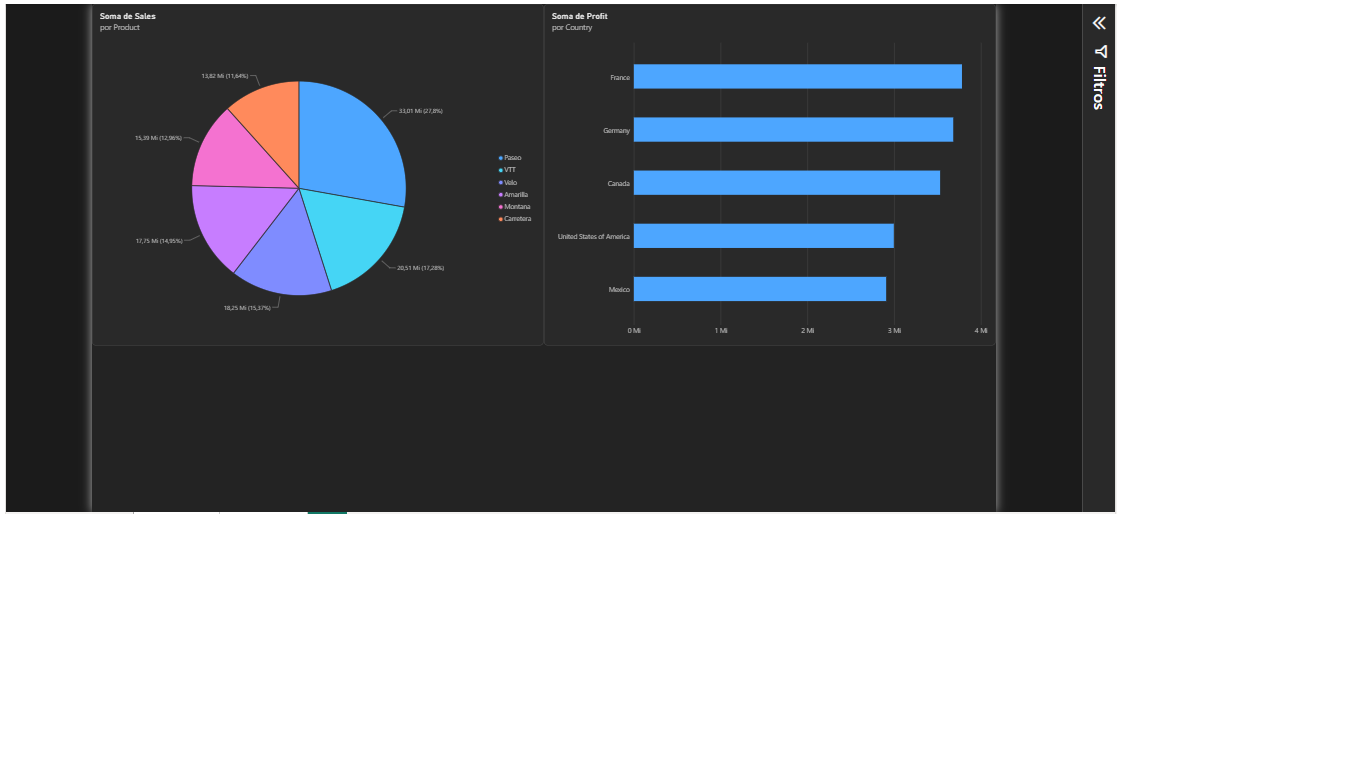

The dashboard page shown, as its layout file describes it:
{"tool":"powerbi","page":{"name":"Página 2","canvas":[1920,1080],"ordinal":1},"visuals":[{"type":"pieChart","fields":{"Category":["financials.Product"],"Y":["Sum(financials.Sales)"]},"box":[0,0,960,725.7],"z":0},{"type":"barChart","fields":{"Category":["financials.Country"],"Y":["Sum(financials.Profit)"]},"box":[960,0,960,725.7],"z":1}]}

Visuals, with their boxes in screenshot pixels (x1, y1, x2, y2):
pieChart - financials.Product x Sum(financials.Sales): Rect(0, 0, 674, 509)
barChart - financials.Country x Sum(financials.Profit): Rect(674, 0, 1347, 509)
